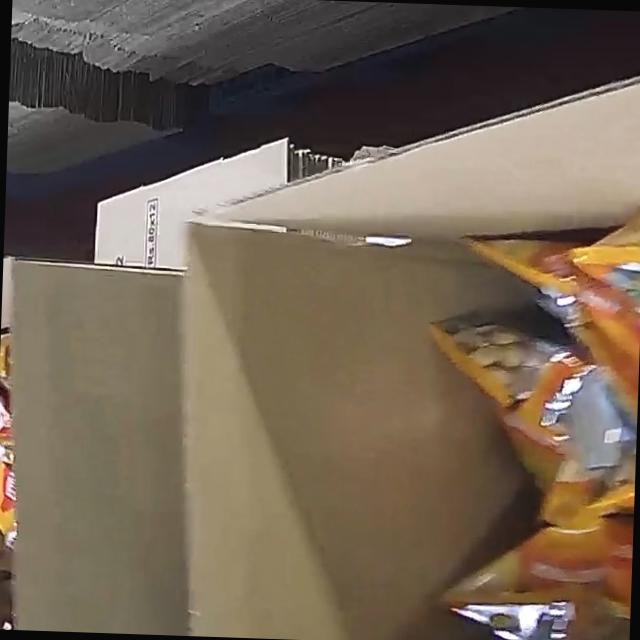cheese: (413, 162, 640, 640), (0, 289, 40, 625)
